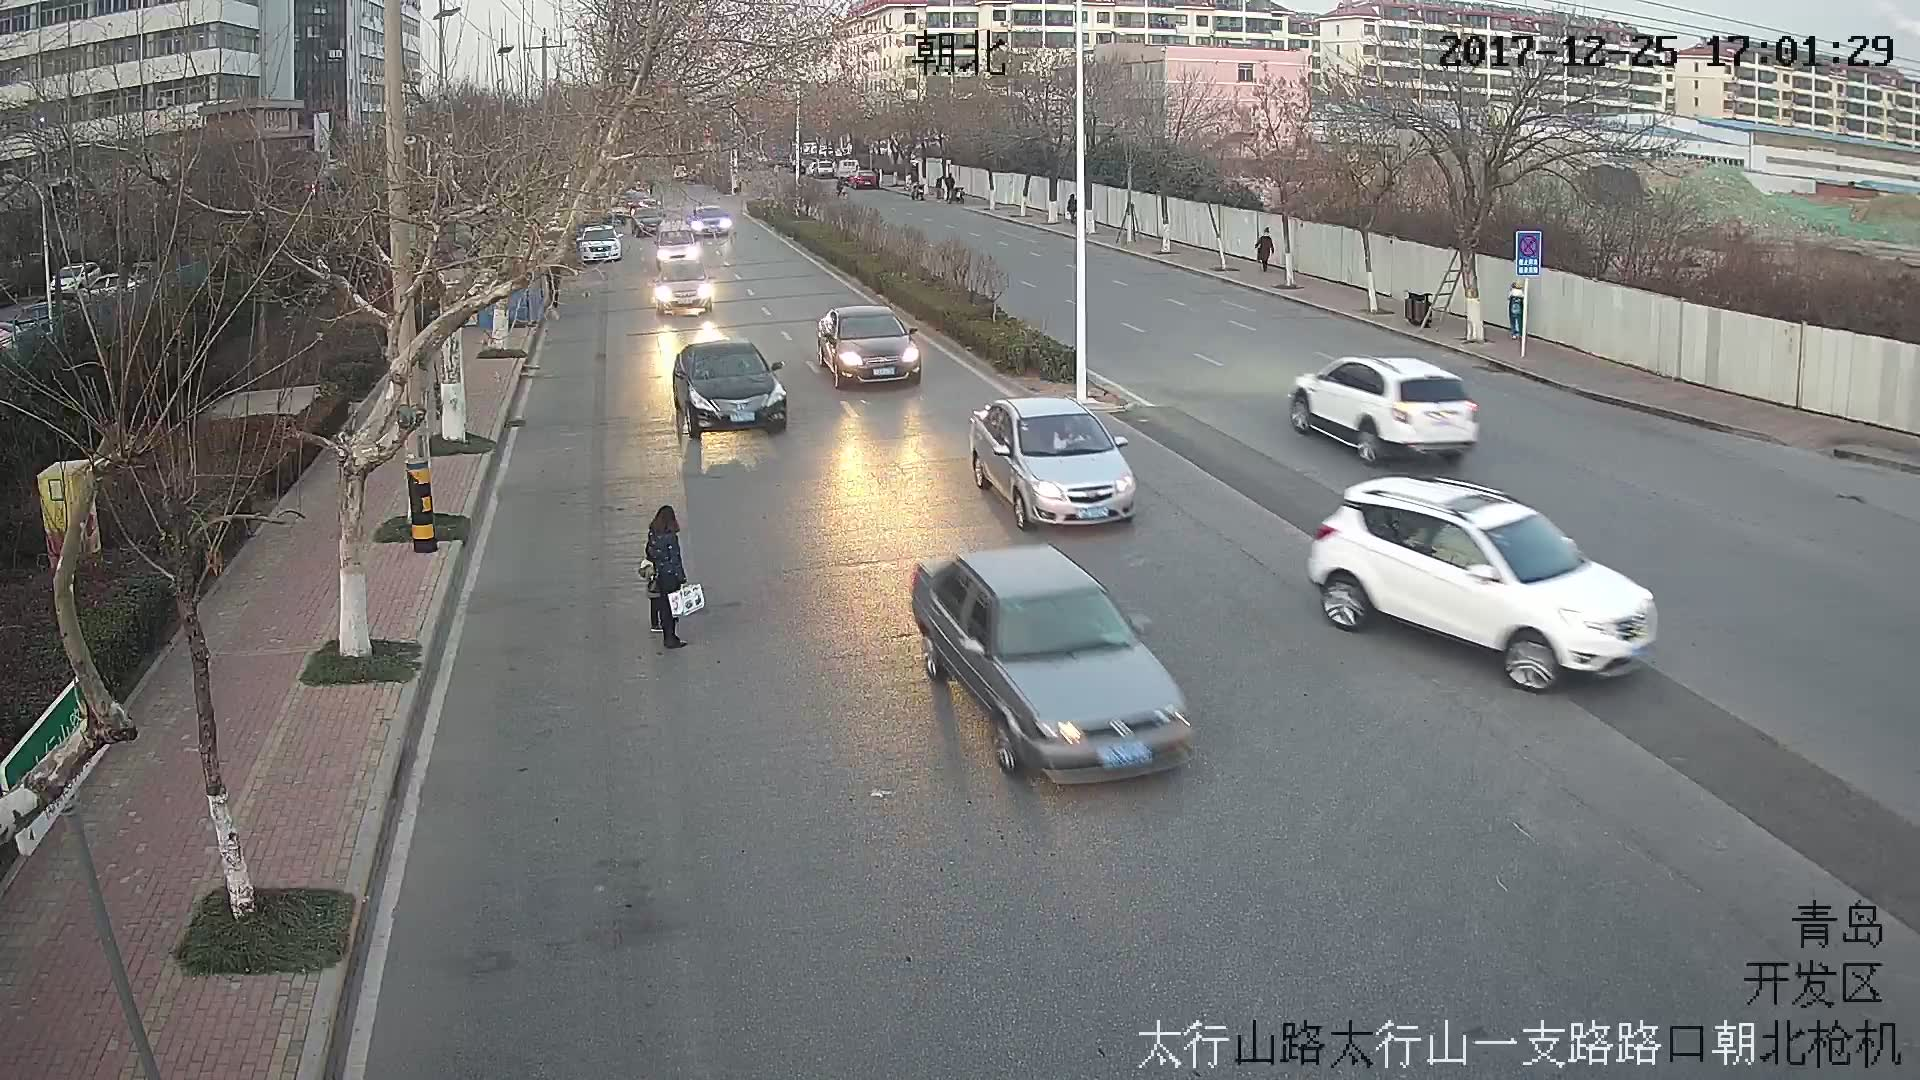car: (1316, 478, 1674, 688), (907, 555, 1198, 774), (1292, 353, 1485, 467), (975, 400, 1138, 530), (668, 344, 788, 434), (813, 306, 927, 387), (652, 264, 716, 320), (660, 220, 700, 267), (580, 225, 621, 264)
person: (638, 506, 702, 646), (1507, 282, 1528, 335), (1255, 223, 1273, 270)
